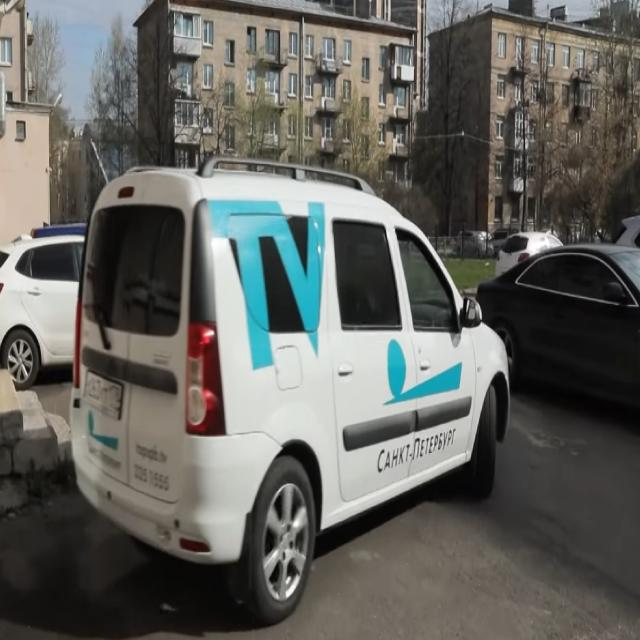non emergency car: (70, 158, 511, 626), (480, 235, 639, 429), (1, 227, 88, 395)
